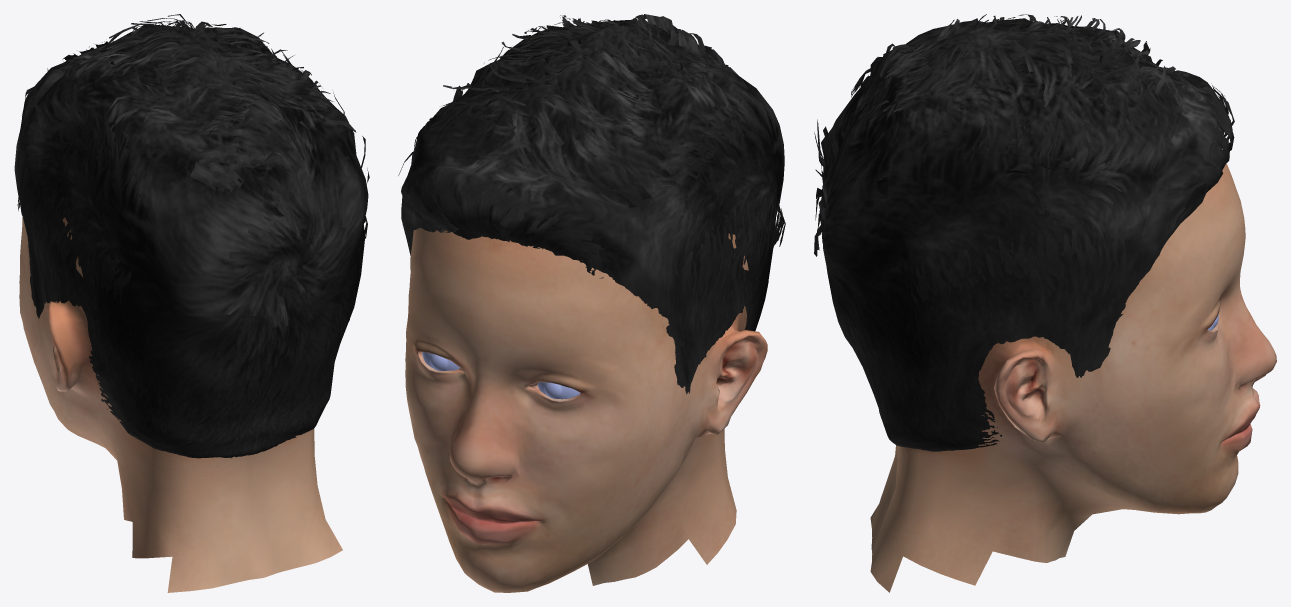
The model's file is sgc_civilian_head.glb.
3 renders of one model, left to right at view 1: azimuth 30°, elevation 25°; view 2: azimuth 150°, elevation 25°; view 3: azimuth 270°, elevation 25°, orthographic. The views are drawn at different scales.
Parts seen in each view (by area): view 1: Hair, Face; view 2: Face, Hair, Eyes; view 3: Hair, Face.
Boxes of the visible parts, x1=… form: Hair: x1=14, y1=14, x2=369, y2=458; Face: x1=19, y1=217, x2=342, y2=592; Face: x1=405, y1=228, x2=767, y2=592; Hair: x1=398, y1=14, x2=785, y2=394; Eyes: x1=422, y1=352, x2=580, y2=399; Hair: x1=814, y1=14, x2=1234, y2=451; Face: x1=870, y1=163, x2=1276, y2=592.
Bounding box in the file's own units: 0.1759 × 0.2711 × 0.2186.
3 materials, 3 textured.
